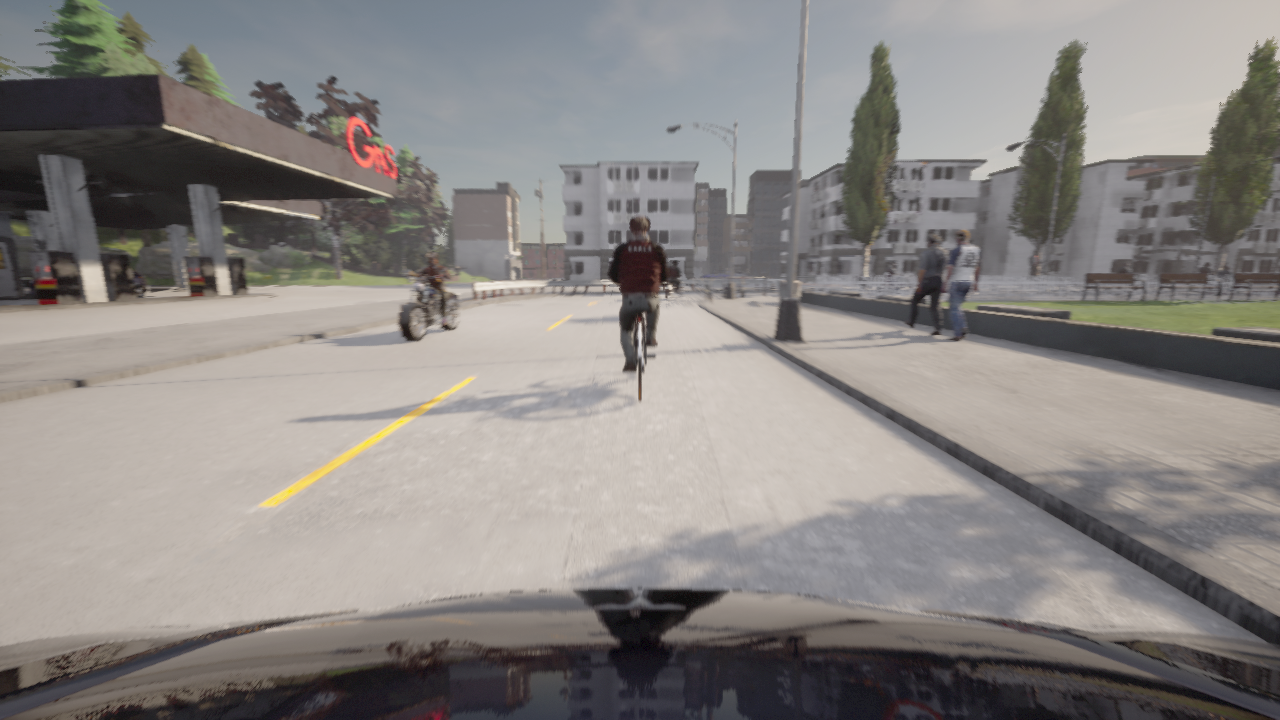cyclist: (0, 588, 1279, 719), (398, 269, 460, 341), (29, 268, 147, 298), (625, 314, 654, 400), (1210, 275, 1238, 294), (666, 282, 682, 299), (700, 270, 729, 278), (886, 284, 899, 292), (732, 272, 753, 276), (1196, 284, 1201, 291), (1113, 284, 1115, 290)
pedestrian: (904, 233, 948, 335), (942, 229, 980, 341)
